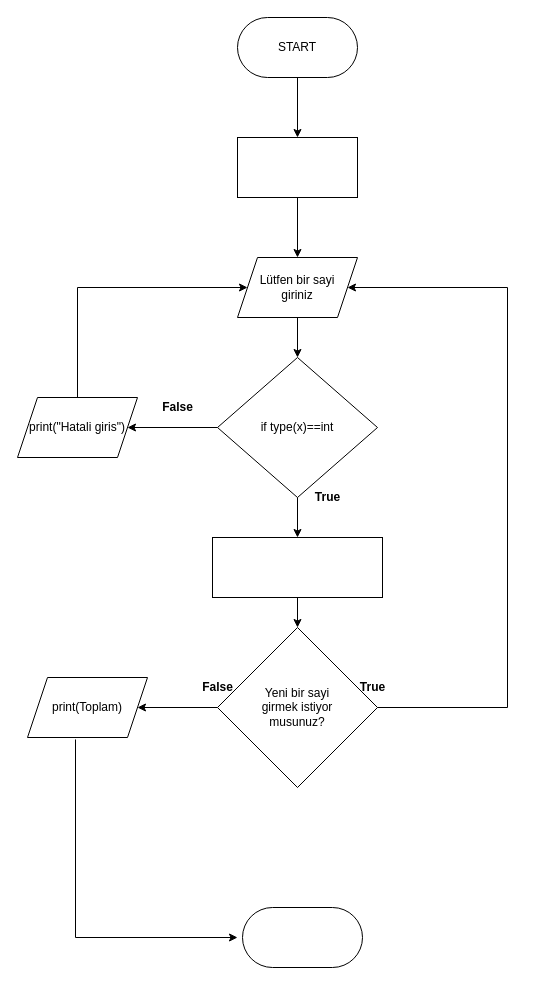
Some shapes in this 533 by 985 pixel diagram are drawn without their labels. The shapes that lost their labels are listed below. From the top down, each one's centre as x and y in pixels, then its label:
At point (297, 167): "Toplam=0 Sayi=0".
At point (297, 567): "Toplam = Toplam + Sayi".
At point (302, 937): "STOP".
